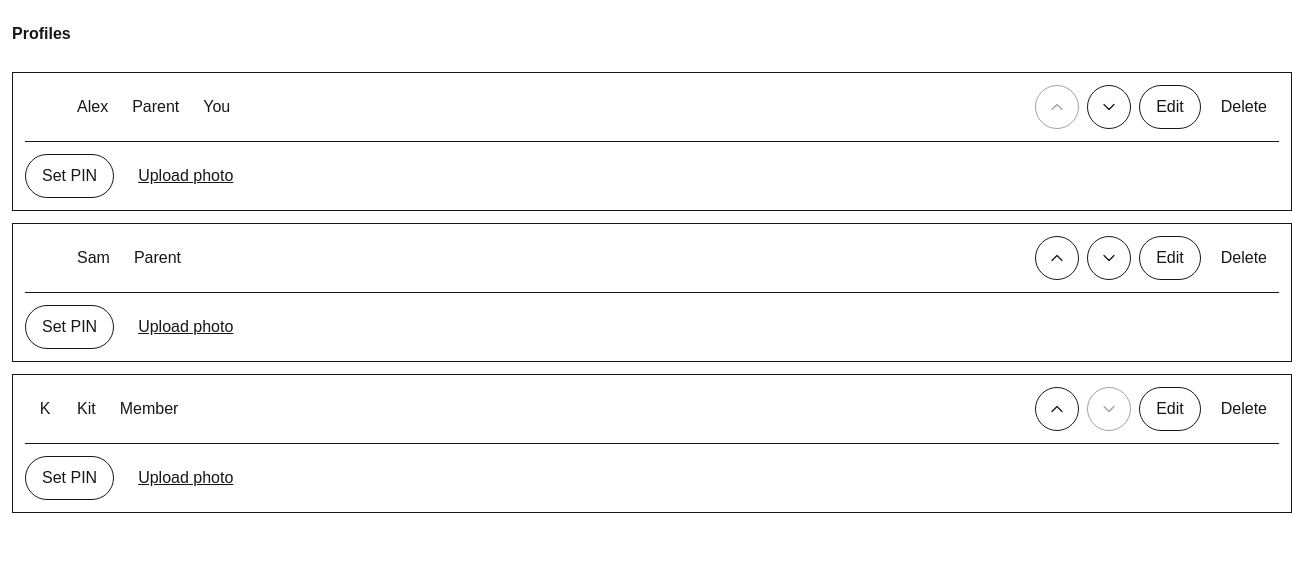
CategorySection › says why a refused reorder did not happen
Click the button named "Move Sam up". click: (1057, 258)
box: [1035,236,1079,280]
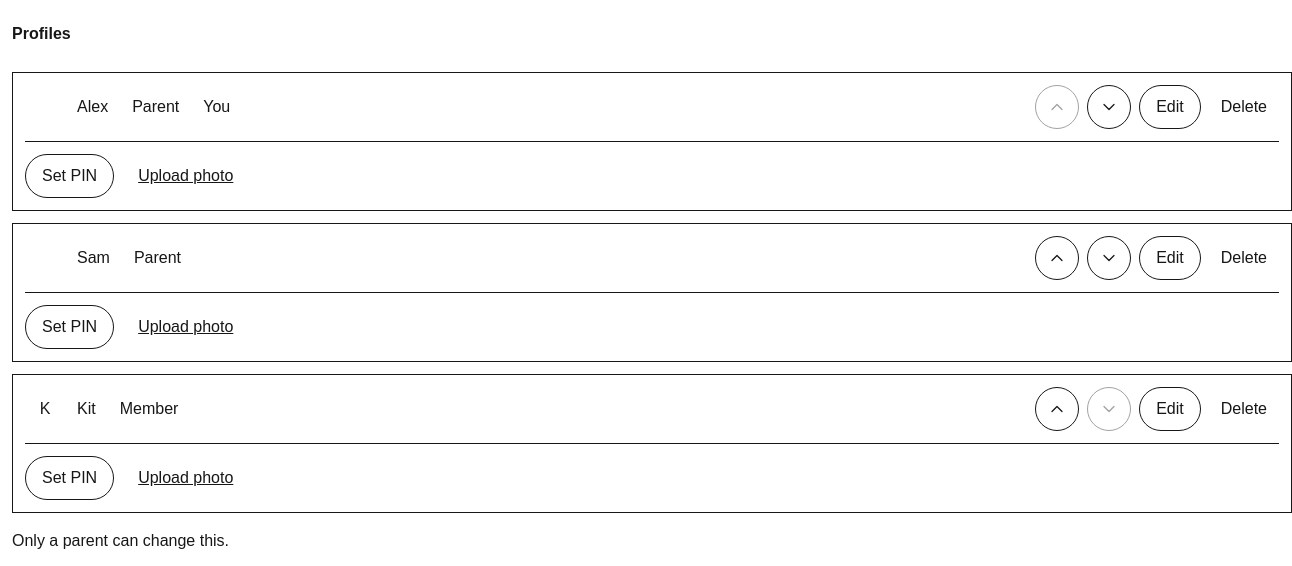
Expected: the message reads "Only a parent can change this.", [12,532,229,549]
